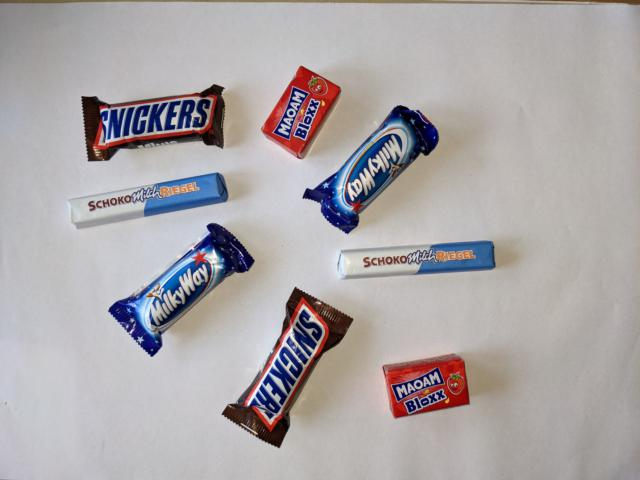MAOAM: (257, 64, 344, 164), (378, 352, 473, 422)
MilkyWay: (105, 221, 256, 360), (300, 102, 442, 238)
Schokoriegel: (62, 171, 229, 234), (329, 237, 498, 284)
Snickers: (219, 285, 356, 451), (78, 81, 230, 165)
